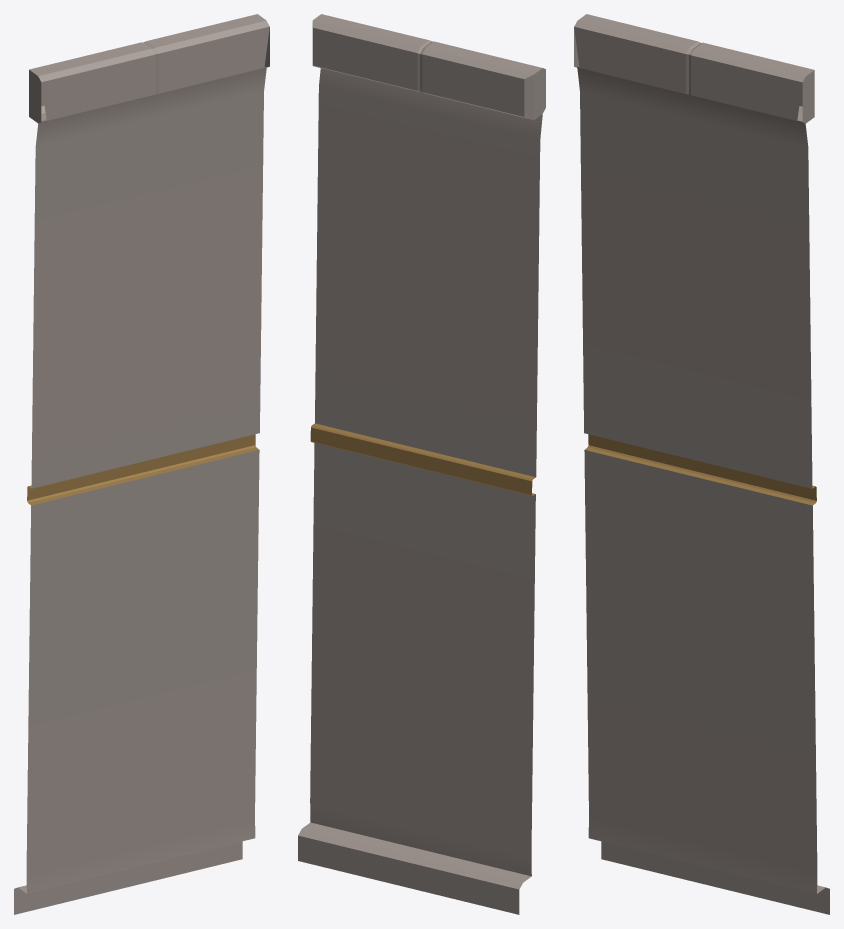
File: WallTall.fbx
3 views of the same model, side by side, from view 1: azimuth 30°, elevation 25°; view 2: azimuth 150°, elevation 25°; view 3: azimuth 330°, elevation 25° (orthographic). The views are drawn at different scales.
Parts seen in each view (by area): view 1: Plain_Wall_Tall; view 2: Plain_Wall_Tall; view 3: Plain_Wall_Tall.
Boxes of the visible parts, <box> form: Plain_Wall_Tall: <box>14,14,269,914</box>; Plain_Wall_Tall: <box>298,14,545,914</box>; Plain_Wall_Tall: <box>574,14,829,914</box>.
Bounding box in the file's own units: 1 × 3.58 × 0.2079.
